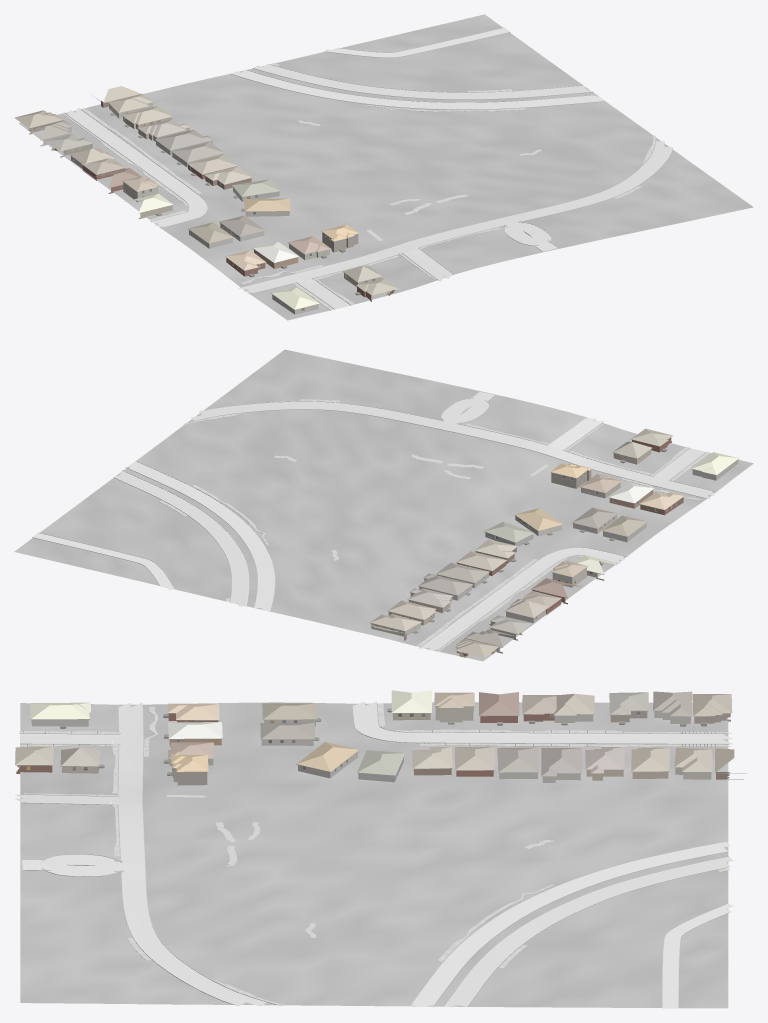
3 views of the same model, one above another, from view 1: azimuth 30°, elevation 25°; view 2: azimuth 150°, elevation 25°; view 3: azimuth 270°, elevation 25° (orthographic). The views are drawn at different scales.
Visible parts, largest first — view 1: ground, roof, concrete, asphalt, curb, walk, wall, detail, wall_stone, wall_stucco; view 2: ground, roof, concrete, asphalt, curb, walk, wall, wall_stone, detail, wall_stucco; view 3: ground, roof, concrete, asphalt, walk, curb, wall, wall_stone, detail, wall_stucco, mark_w.
Part boxes in pixels (<box>): ground: <box>19,14,753,320</box>; roof: <box>14,86,398,309</box>; concrete: <box>67,28,672,309</box>; asphalt: <box>232,64,603,109</box>; curb: <box>63,27,672,310</box>; walk: <box>62,63,655,310</box>; wall: <box>29,101,371,301</box>; detail: <box>33,94,382,310</box>; wall_stone: <box>40,127,318,314</box>; wall_stucco: <box>109,103,381,286</box>; ground: <box>14,349,753,661</box>; roof: <box>370,428,738,657</box>; concrete: <box>32,392,714,650</box>; asphalt: <box>114,461,274,610</box>; curb: <box>32,391,718,650</box>; walk: <box>159,399,710,651</box>; wall: <box>388,437,683,653</box>; wall_stone: <box>419,459,738,653</box>; detail: <box>370,435,738,647</box>; wall_stucco: <box>371,449,651,636</box>; ground: <box>20,702,728,1008</box>; roof: <box>15,690,734,776</box>; concrete: <box>14,701,733,1008</box>; asphalt: <box>411,841,733,1006</box>; walk: <box>19,703,729,1005</box>; curb: <box>19,701,731,1007</box>; wall: <box>16,711,743,785</box>; wall_stone: <box>31,711,690,782</box>; detail: <box>15,706,746,778</box>; wall_stucco: <box>62,706,711,782</box>; mark_w: <box>110,739,729,1006</box>.
Size of the model in its own units: 256 by 10.23 by 261.
